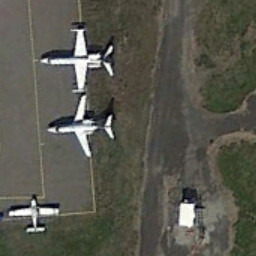Airplane: (34, 22, 129, 93), (43, 93, 122, 163), (5, 191, 66, 239)
